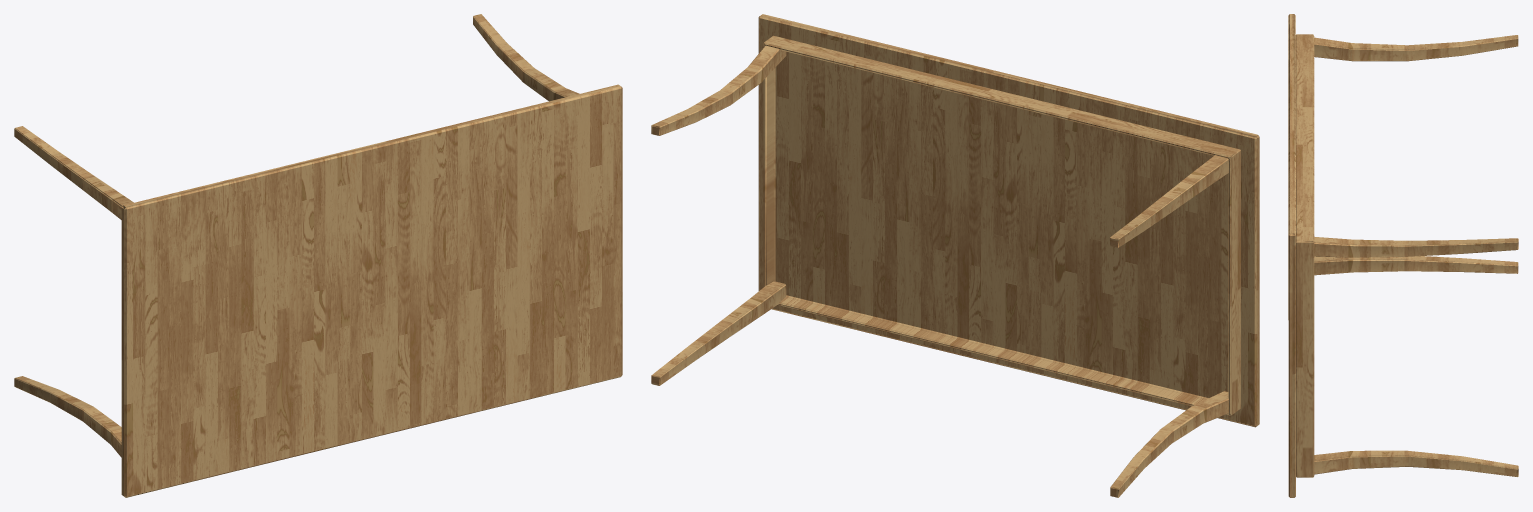
File: TablemeshDiningTable_218_0.obj
3 renders of one model, left to right at view 1: azimuth 30°, elevation 25°; view 2: azimuth 150°, elevation 25°; view 3: azimuth 270°, elevation 25°, orthographic. The views are drawn at different scales.
Visible parts, largest first — view 1: DiningTable_218; view 2: DiningTable_218; view 3: DiningTable_218.
Part boxes in pixels (box(x1,y1,x2,y2)): DiningTable_218: box(14, 14, 622, 497); DiningTable_218: box(651, 14, 1259, 497); DiningTable_218: box(1288, 14, 1518, 497).
Size of the model in its own units: 1.77 by 0.9882 by 0.7795.
